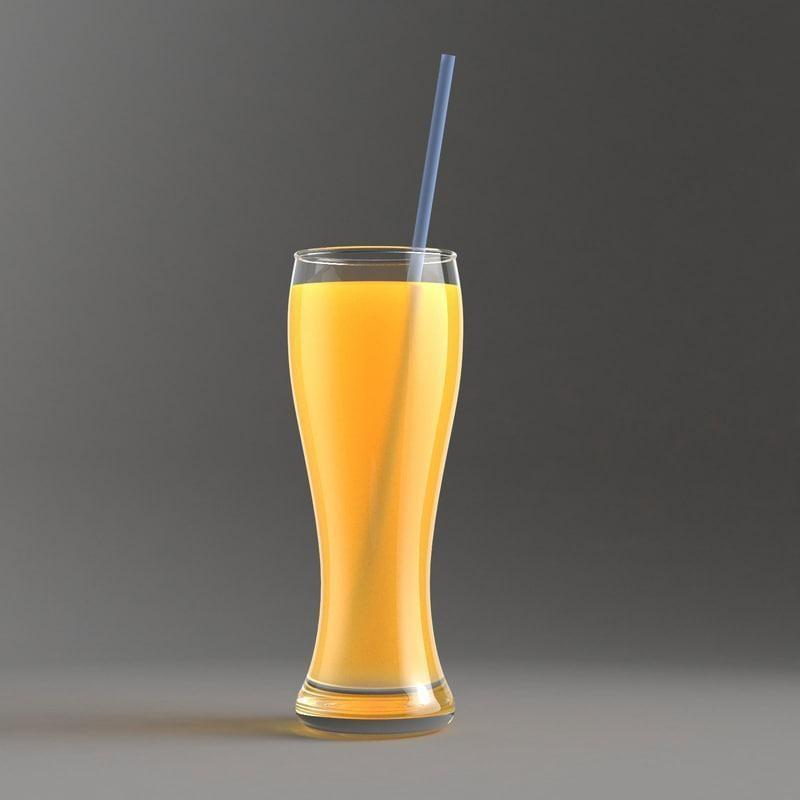glass-normal: (282, 243, 469, 736)
